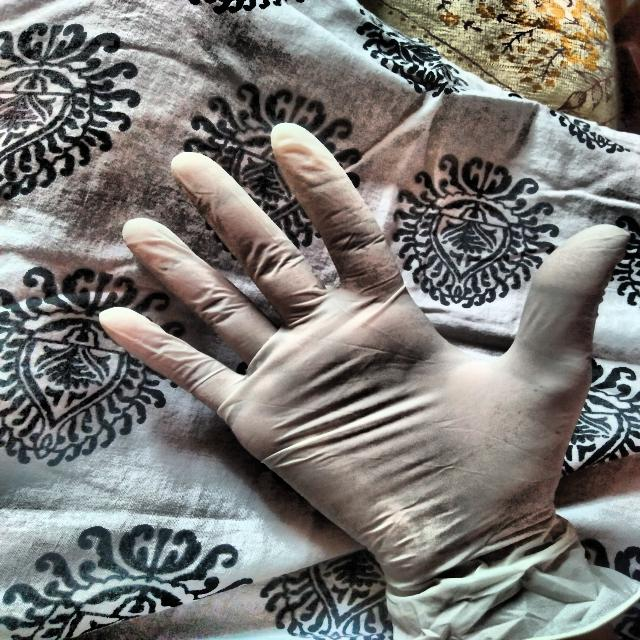gloved: (91, 111, 636, 636)
